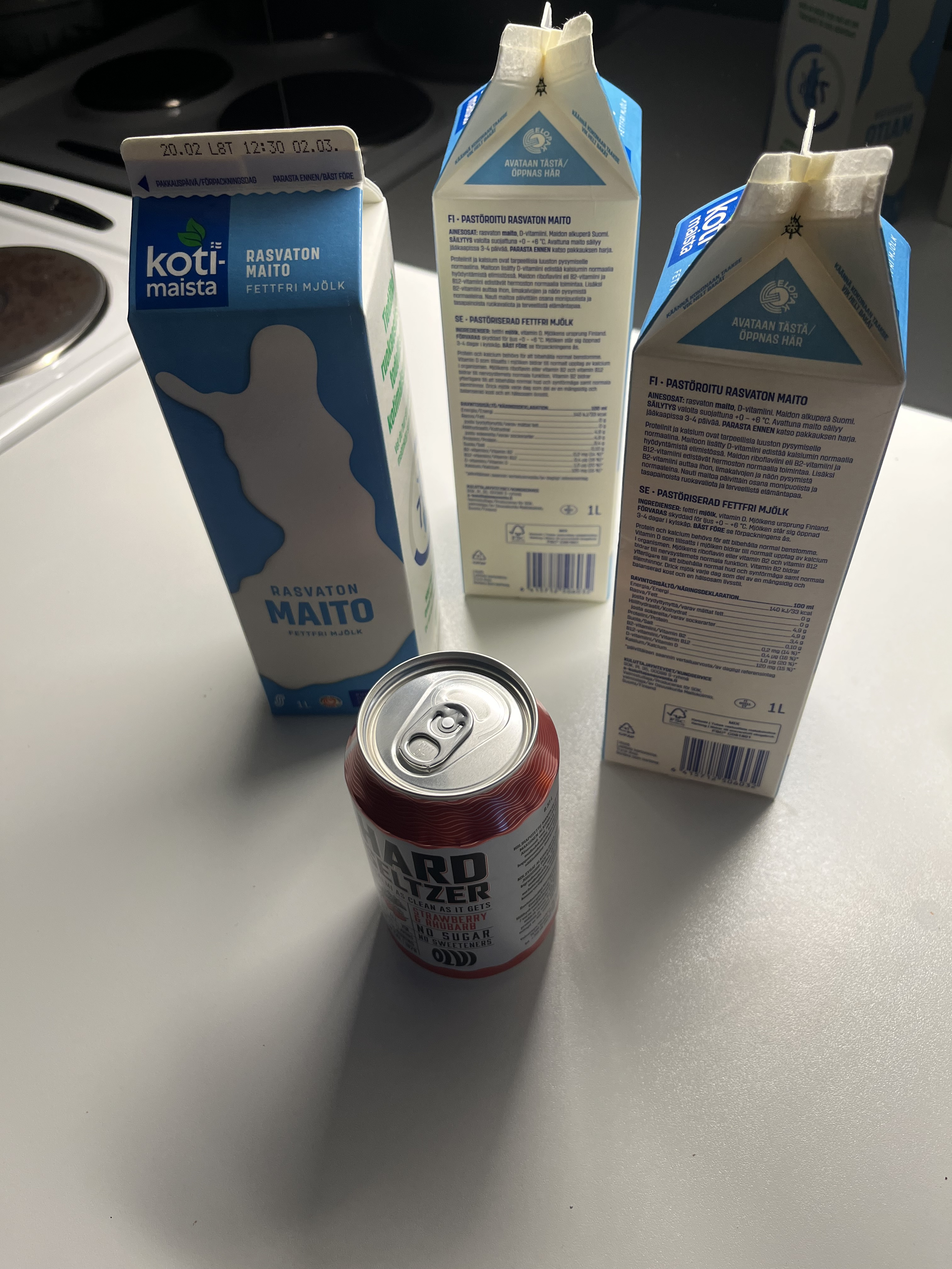Dryckeskartong: (597, 110, 910, 810), (120, 129, 440, 718), (432, 2, 644, 624)
Pantburk: (339, 642, 569, 975)
